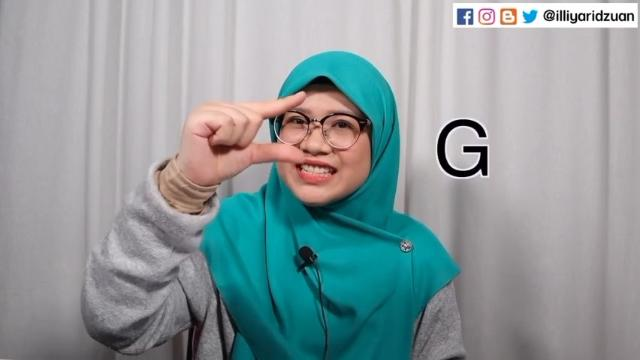G: (181, 90, 307, 178)
